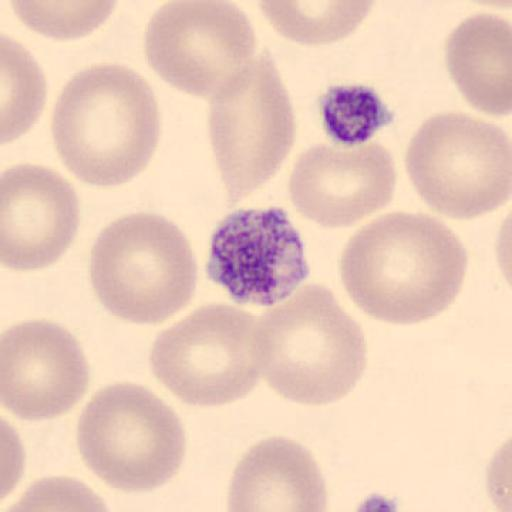Platelet: (202, 205, 314, 307), (314, 80, 398, 147)
RBC: (338, 208, 470, 327), (248, 280, 369, 408), (48, 60, 162, 190), (206, 54, 297, 212), (74, 380, 188, 496), (87, 210, 200, 326), (146, 301, 268, 408), (403, 110, 511, 221), (142, 0, 258, 99), (288, 141, 398, 230), (1, 316, 91, 422), (1, 161, 81, 272), (224, 434, 329, 511), (443, 10, 512, 117), (253, 0, 378, 47), (1, 32, 49, 146), (6, 0, 121, 42), (1, 474, 116, 512), (0, 414, 26, 511), (485, 434, 512, 512), (492, 202, 512, 298), (493, 211, 512, 289), (459, 0, 512, 21), (456, 0, 512, 11), (459, 0, 511, 8)
